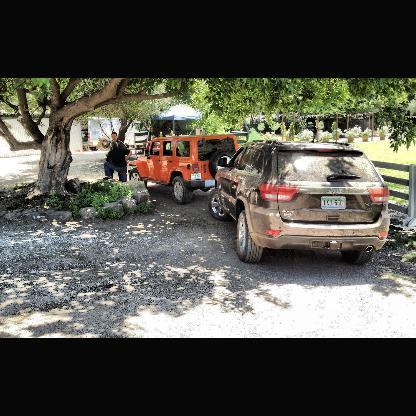Jeep Grand Cherokee SUV 2012: (210, 136, 389, 266)
